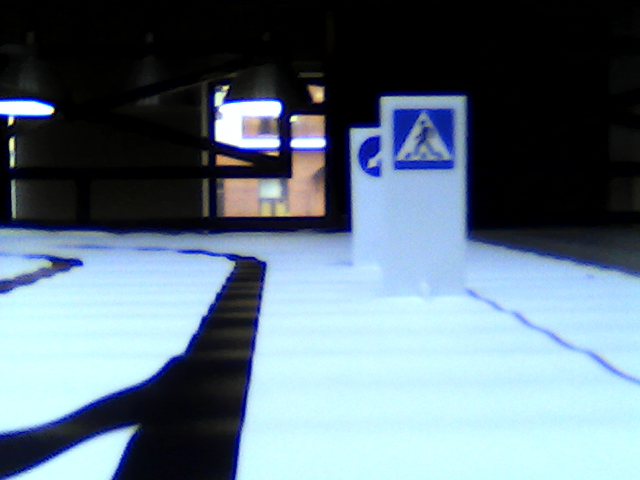pesh: (391, 106, 455, 172)
